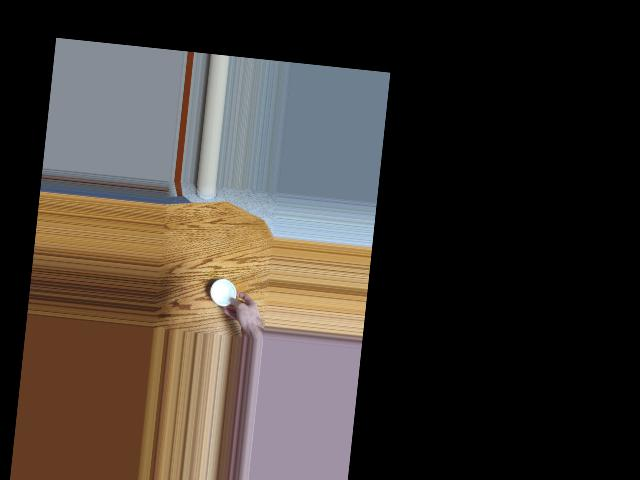cotage: (208, 278, 238, 309)
